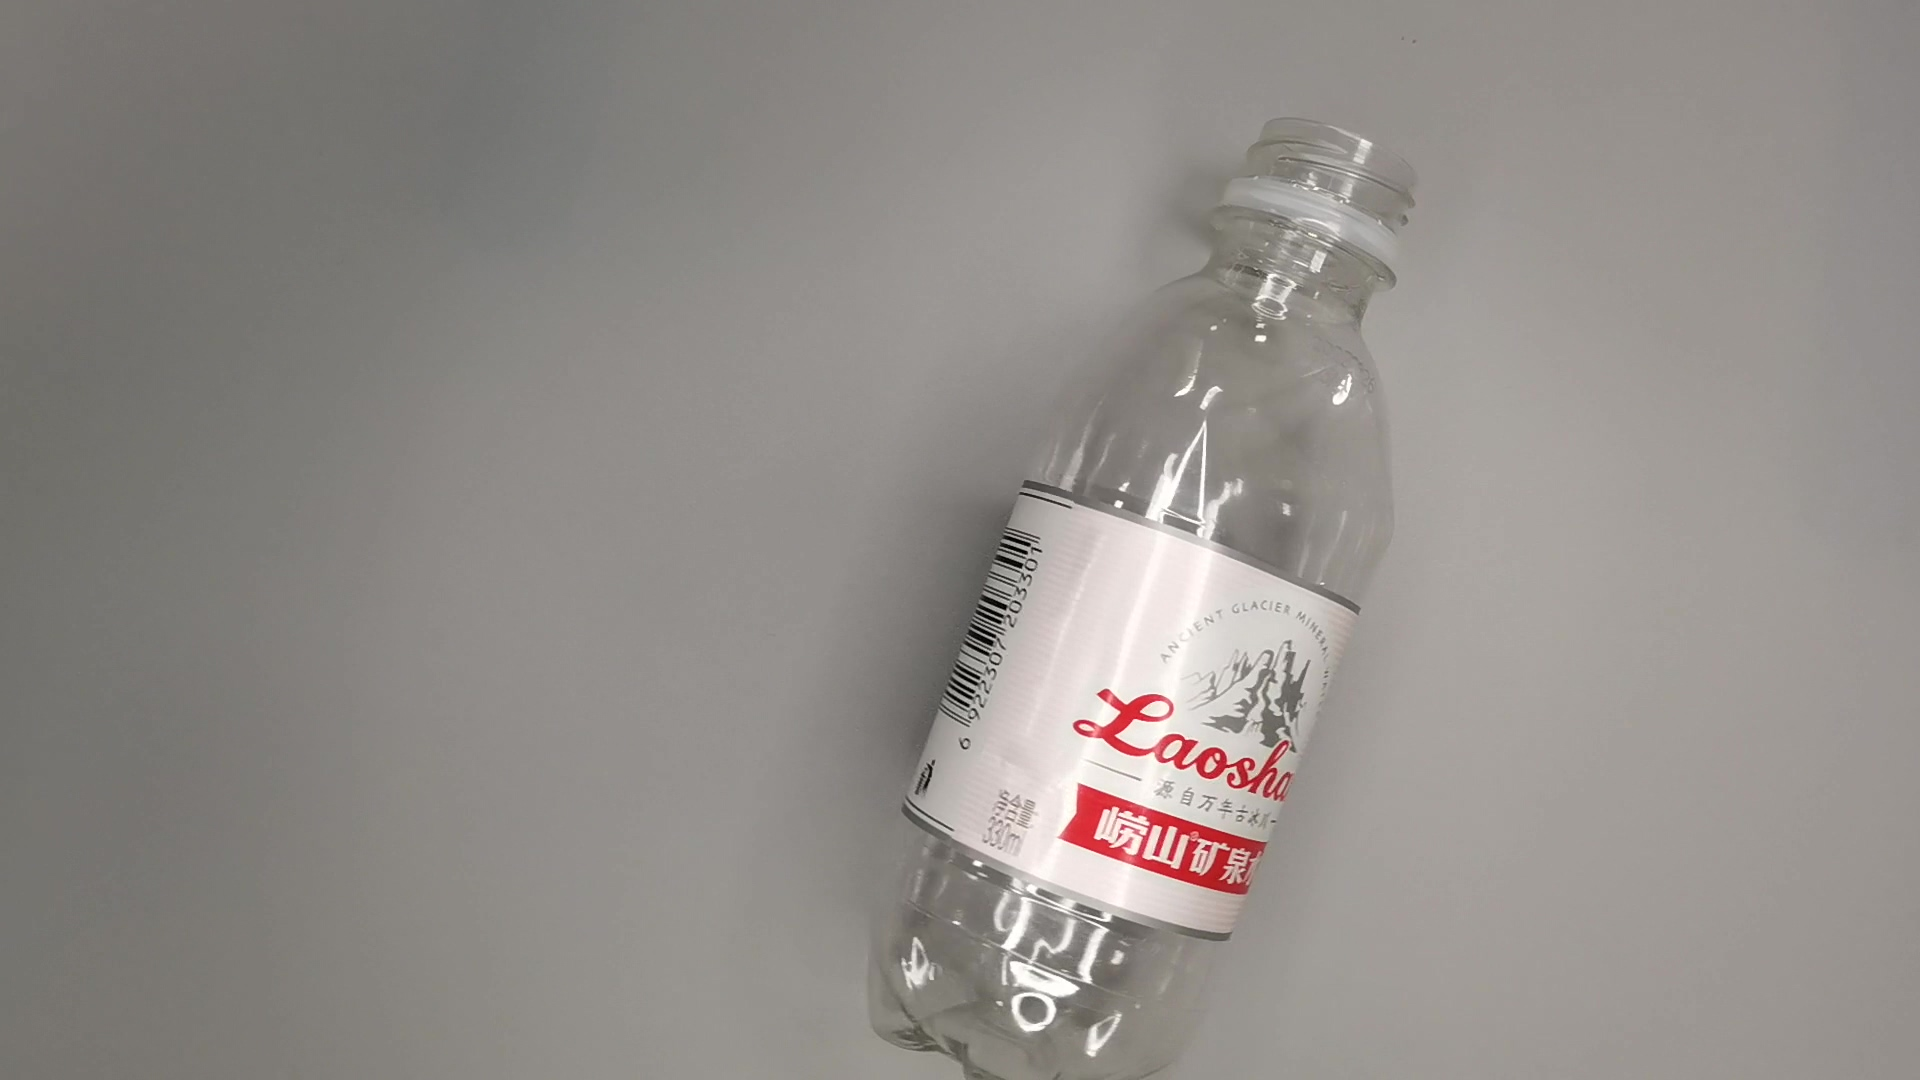bottle: (862, 112, 1423, 1080)
